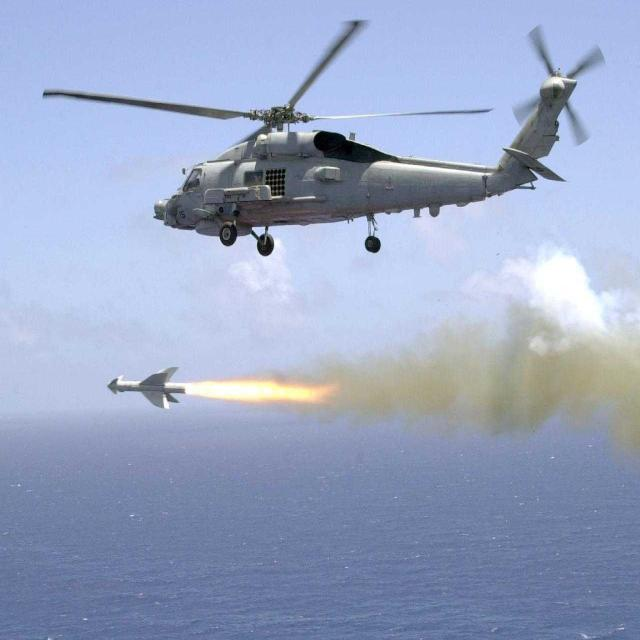missile: (106, 363, 189, 416)
